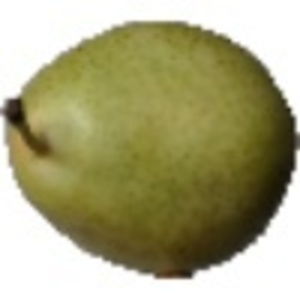pera: (1, 17, 300, 282)
